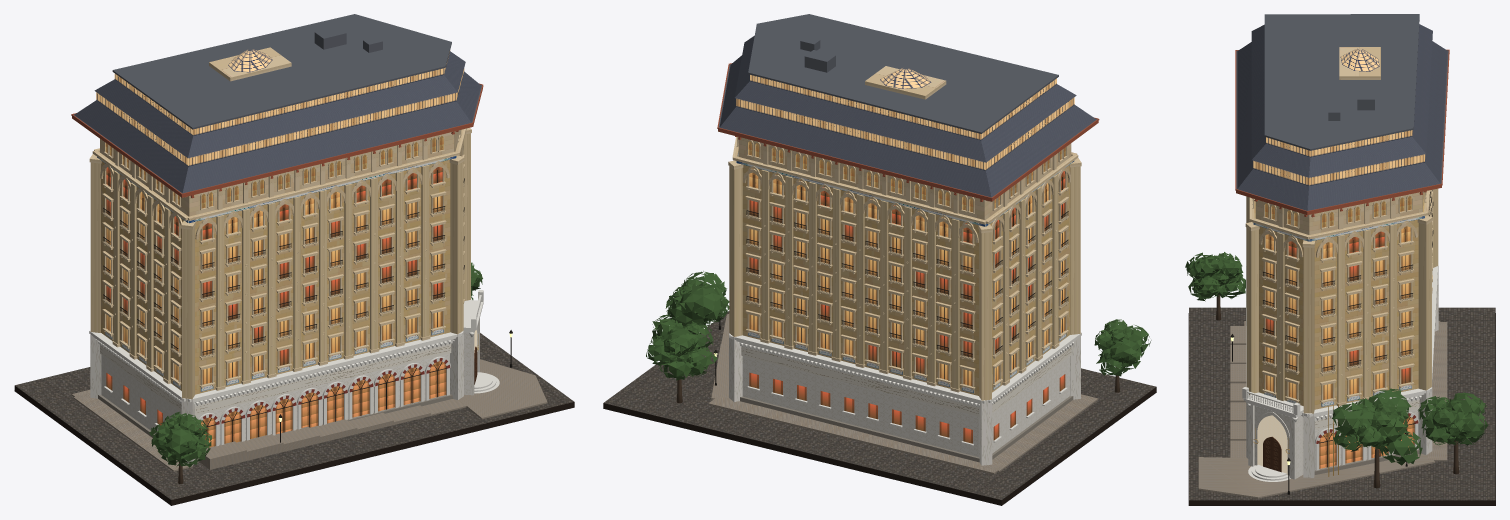
The model's file is ajwa-sultanahmet.glb.
3 views of the same model, side by side, from view 1: azimuth 30°, elevation 25°; view 2: azimuth 150°, elevation 25°; view 3: azimuth 270°, elevation 25° (orthographic). The views are drawn at different scales.
Visible parts, largest first — view 1: lm_oda, dz_oda; view 2: lm_oda, dz_oda; view 3: lm_oda, dz_oda.
Part boxes in pixels (x1,y1,x2,y2): lm_oda: (14, 14, 574, 505); dz_oda: (103, 49, 512, 447); lm_oda: (603, 14, 1156, 505); dz_oda: (714, 68, 1068, 443); lm_oda: (1185, 14, 1495, 505); dz_oda: (1231, 48, 1414, 474).
Size of the model in its own units: 46.42 by 38.32 by 31.41.
33 materials, 21 textured.
